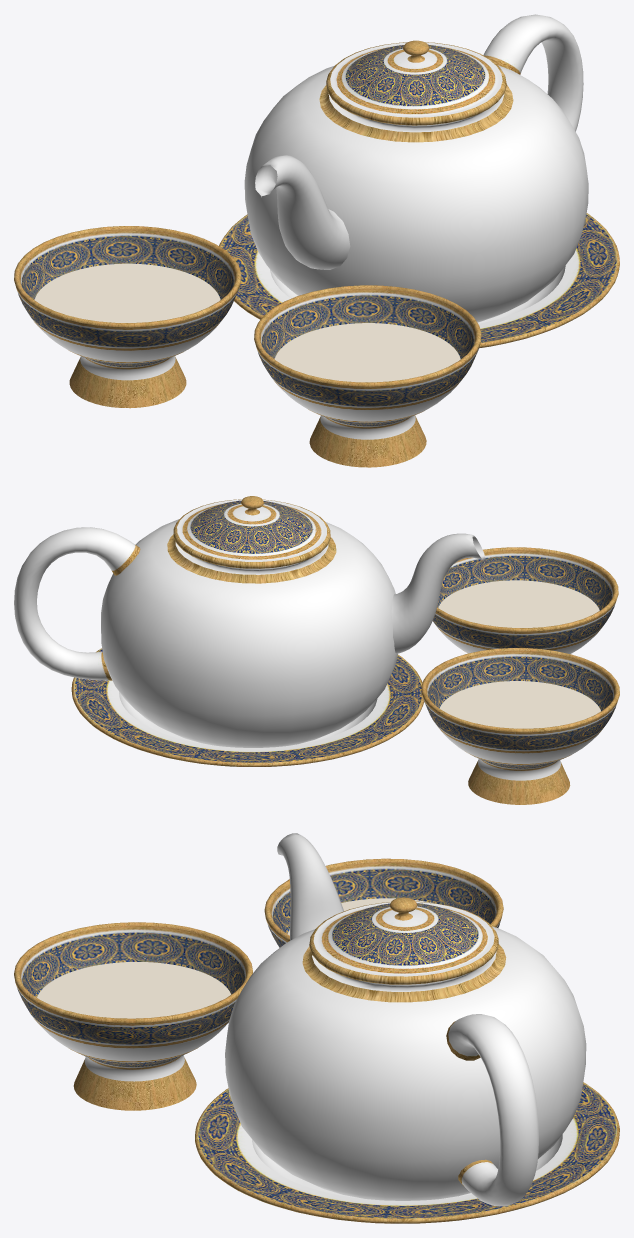
Rendered from cup.fbx.
3 views of the same model, one above another, from view 1: azimuth 30°, elevation 25°; view 2: azimuth 150°, elevation 25°; view 3: azimuth 270°, elevation 25° (orthographic). The views are drawn at different scales.
Visible parts, largest first — view 1: teaset; view 2: teaset; view 3: teaset.
Part boxes in pixels (left/top/right/bottom): teaset: left=14, top=14, right=619, bottom=467; teaset: left=14, top=496, right=619, bottom=804; teaset: left=14, top=833, right=619, bottom=1223.
Size of the model in its own units: 823 by 337 by 670.
